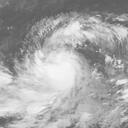cyclone: (26, 48, 88, 99)
